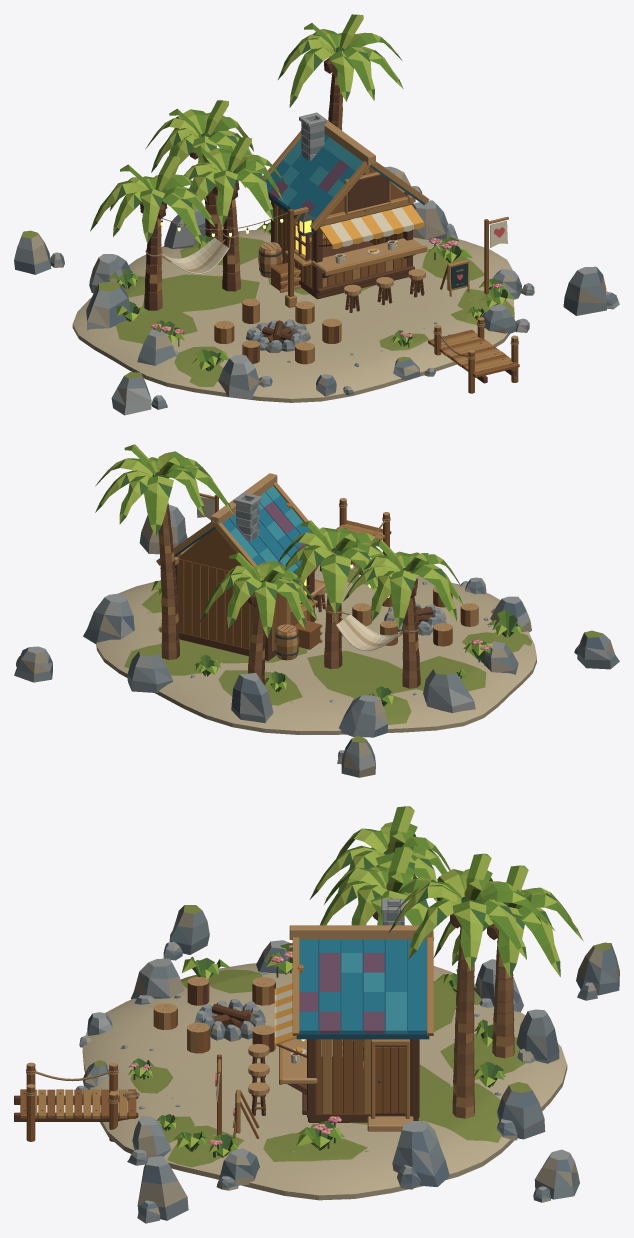
Rendered from bay.glb.
3 views of the same model, one above another, from view 1: azimuth 30°, elevation 25°; view 2: azimuth 150°, elevation 25°; view 3: azimuth 270°, elevation 25° (orthographic). The views are drawn at different scales.
Visible parts, largest first — view 1: Terrain, Static_Props, Cafe_Static, Dock; view 2: Terrain, Static_Props, Cafe_Static, Dock; view 3: Terrain, Static_Props, Cafe_Static, Dock.
Boxes of the visible parts, x1=… form: Terrain: x1=14, y1=166, x2=619, y2=415; Static_Props: x1=90, y1=14, x2=515, y2=371; Cafe_Static: x1=258, y1=112, x2=429, y2=312; Dock: x1=428, y1=317, x2=519, y2=393; Terrain: x1=14, y1=504, x2=619, y2=777; Static_Props: x1=95, y1=444, x2=524, y2=706; Cafe_Static: x1=156, y1=473, x2=326, y2=660; Dock: x1=336, y1=498, x2=391, y2=566; Terrain: x1=76, y1=905, x2=619, y2=1223; Static_Props: x1=128, y1=806, x2=583, y2=1157; Cafe_Static: x1=248, y1=898, x2=433, y2=1131; Dock: x1=14, y1=1062, x2=139, y2=1141.
Bounding box in the file's own units: 14.64 × 6.5 × 12.93.
